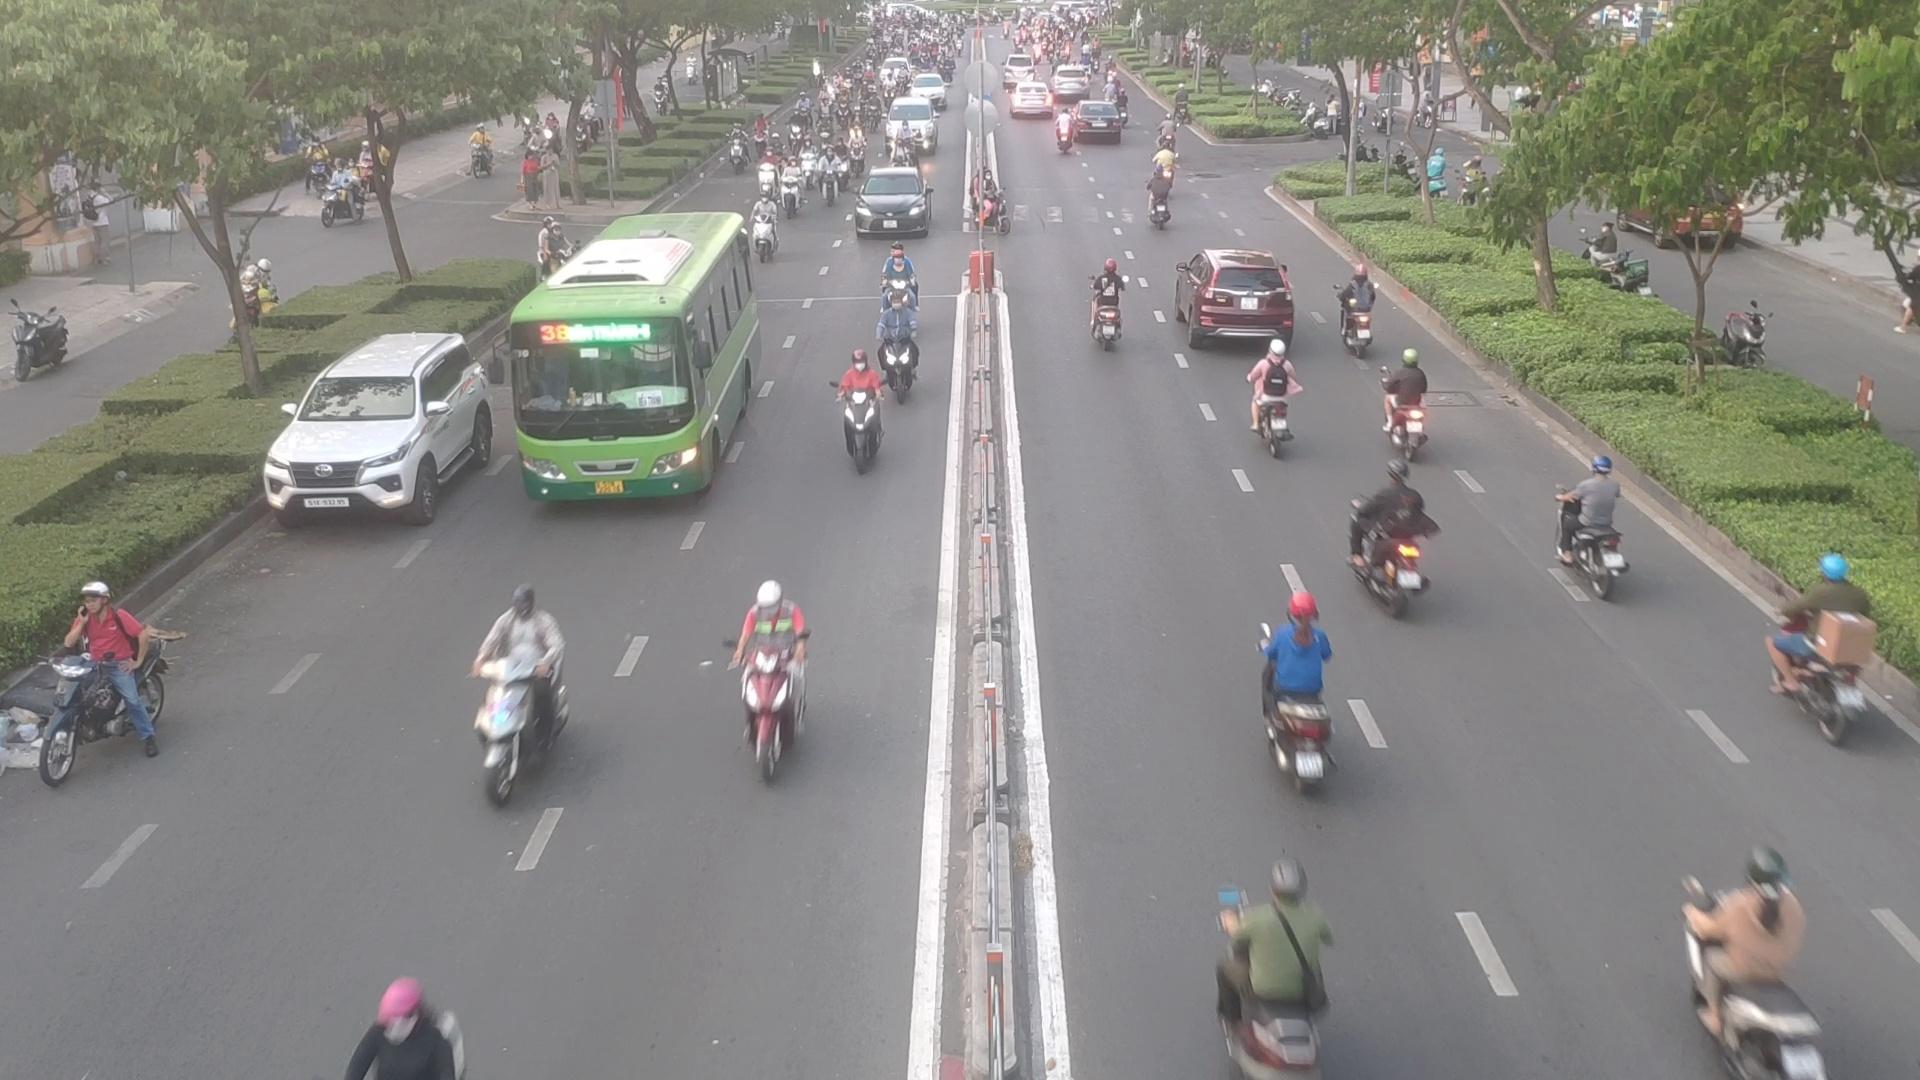bus: (504, 211, 766, 506)
car: (266, 331, 517, 526), (1178, 247, 1299, 348), (847, 166, 934, 240)
motorbike: (1673, 840, 1825, 1077), (1760, 564, 1920, 752), (22, 584, 170, 773), (1211, 857, 1335, 1080), (1240, 604, 1379, 786), (469, 593, 587, 793), (724, 578, 829, 781), (1352, 473, 1436, 611), (1557, 463, 1644, 595), (1246, 336, 1308, 451), (831, 344, 881, 473), (1386, 347, 1445, 454), (1335, 272, 1390, 360), (1079, 261, 1130, 349)
